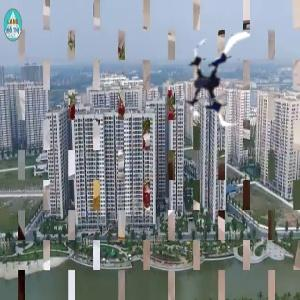drone: (169, 36, 266, 133)
